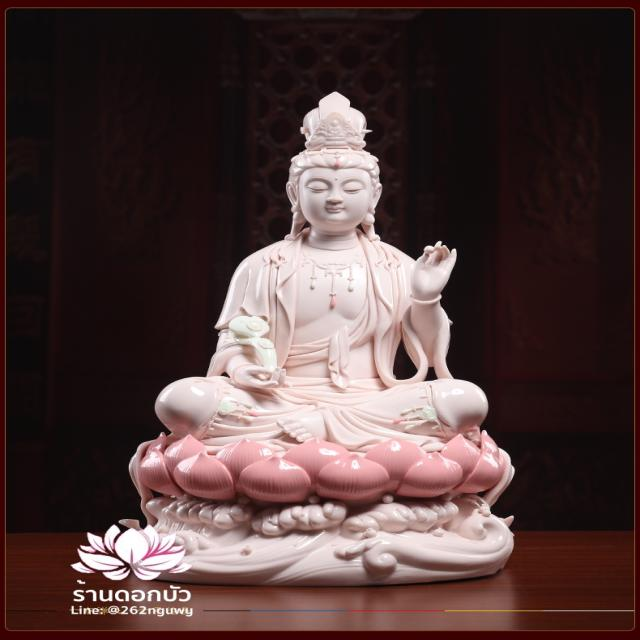Guan Yin: (166, 86, 490, 450)
